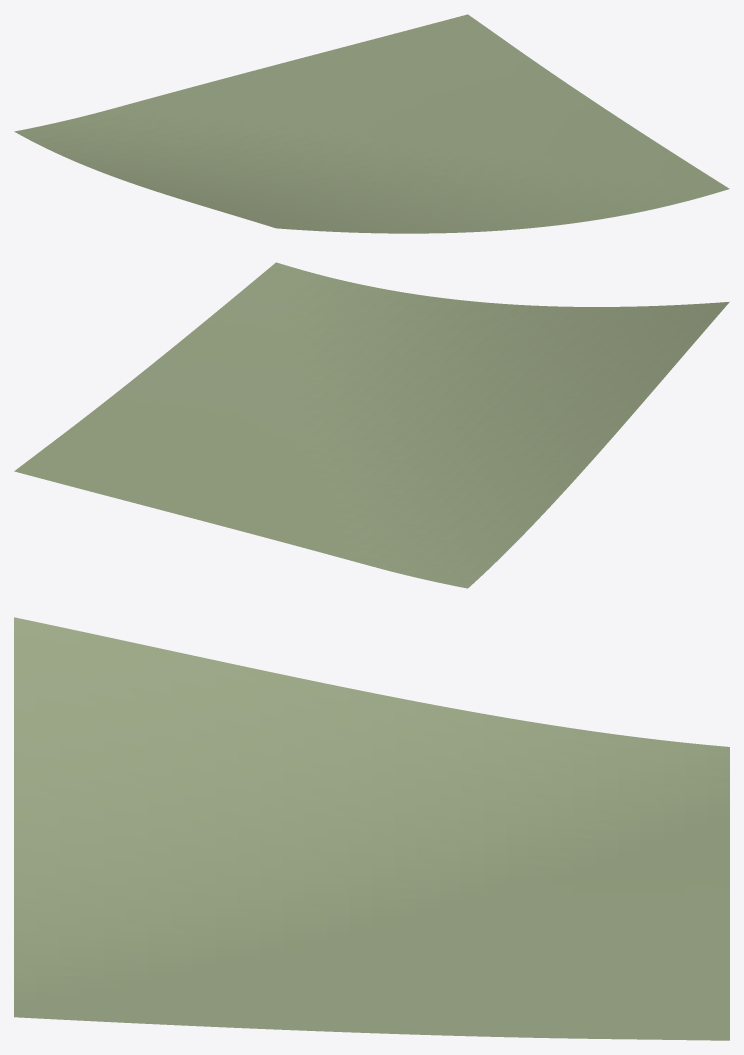
The model's file is expanse-24-3.glb.
The picture shows the model from 3 angles, top to bottom: view 1: azimuth 30°, elevation 25°; view 2: azimuth 150°, elevation 25°; view 3: azimuth 270°, elevation 25°; orthographic projection. The views are drawn at different scales.
Parts seen in each view (by area): view 1: expanse-24-3; view 2: expanse-24-3; view 3: expanse-24-3.
Boxes of the visible parts, x1=… form: expanse-24-3: x1=14, y1=14, x2=729, y2=233; expanse-24-3: x1=14, y1=262, x2=729, y2=588; expanse-24-3: x1=14, y1=617, x2=729, y2=1040.
Size of the model in its own units: 256 by 52.11 by 256.
